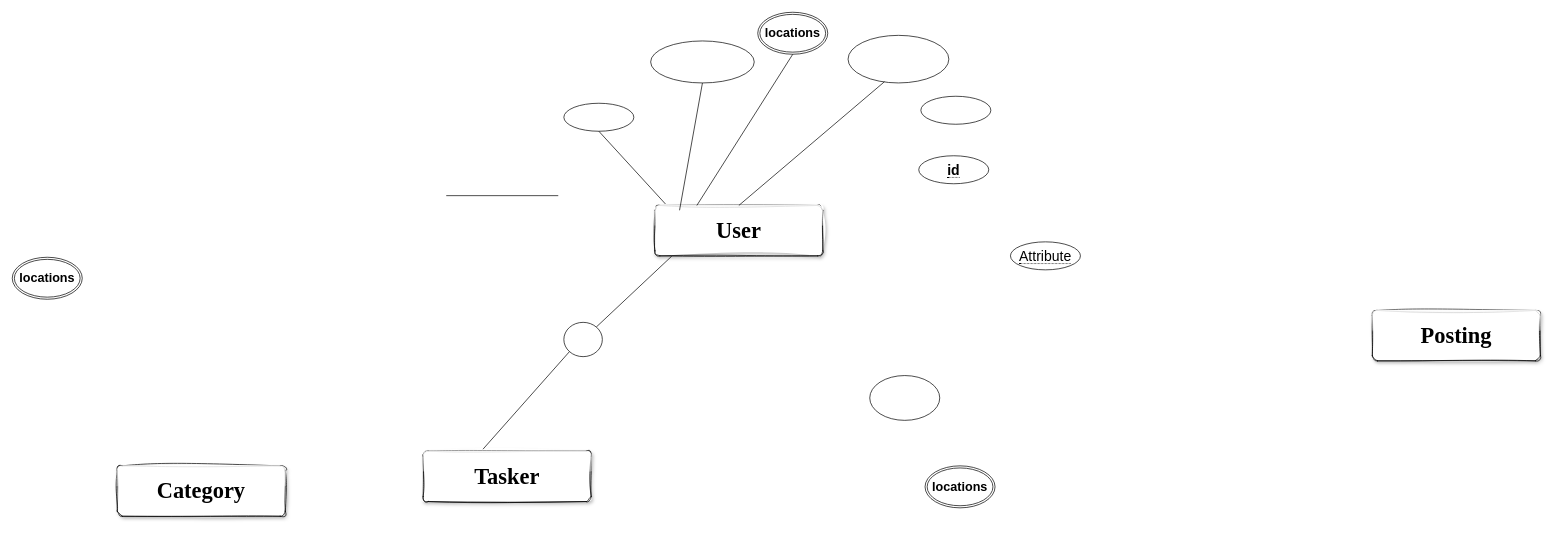
The diagram is 1557 pixels wide and 533 high, and some of its shapes have lost their labels. Here are the shapes that lost their labels. From the top down, the centre of each, then its label:
the point at 702,61: phone_number
the point at 898,59: profile_picutre
the point at 598,117: email
the point at 955,110: name
